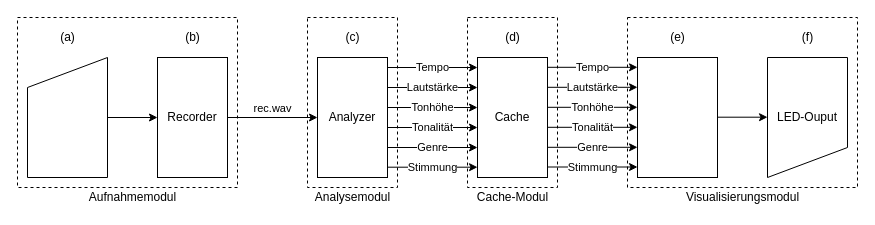
This 875x225 diagram has some shape labels left out. The box of each missing label's shape, as (x1, y1, x2, y2) in pixels:
Audio-Input: (26, 56, 108, 178)
Visualizer: (636, 56, 718, 178)
